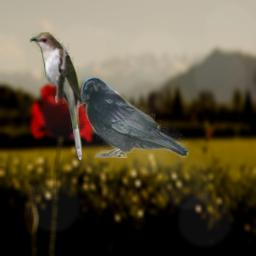Crow: (77, 76, 189, 158)
Cuckoo: (29, 32, 82, 161)
